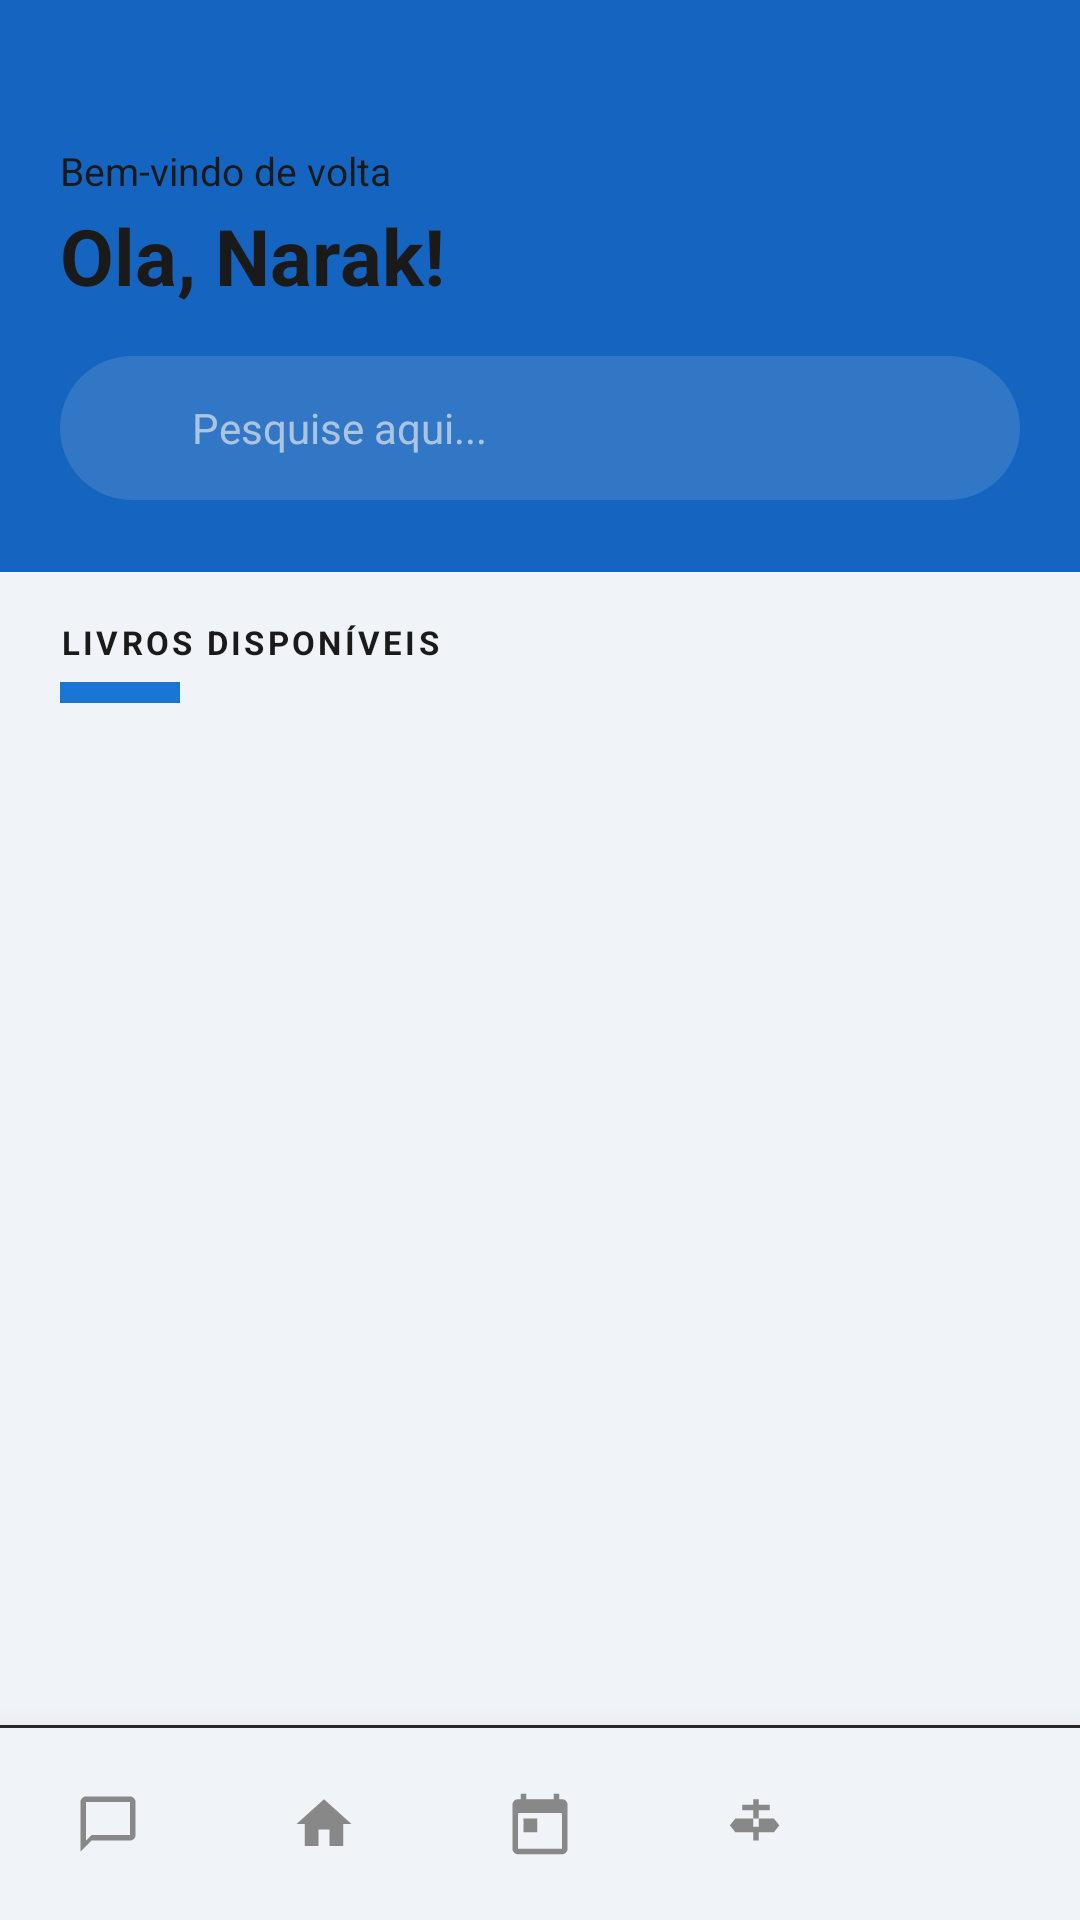

Icons on this 1080x1920 Android screen, each with the point to tap as (x,y):
Chat: (108,1823)
Início: (324,1822)
Reservas: (540,1824)
